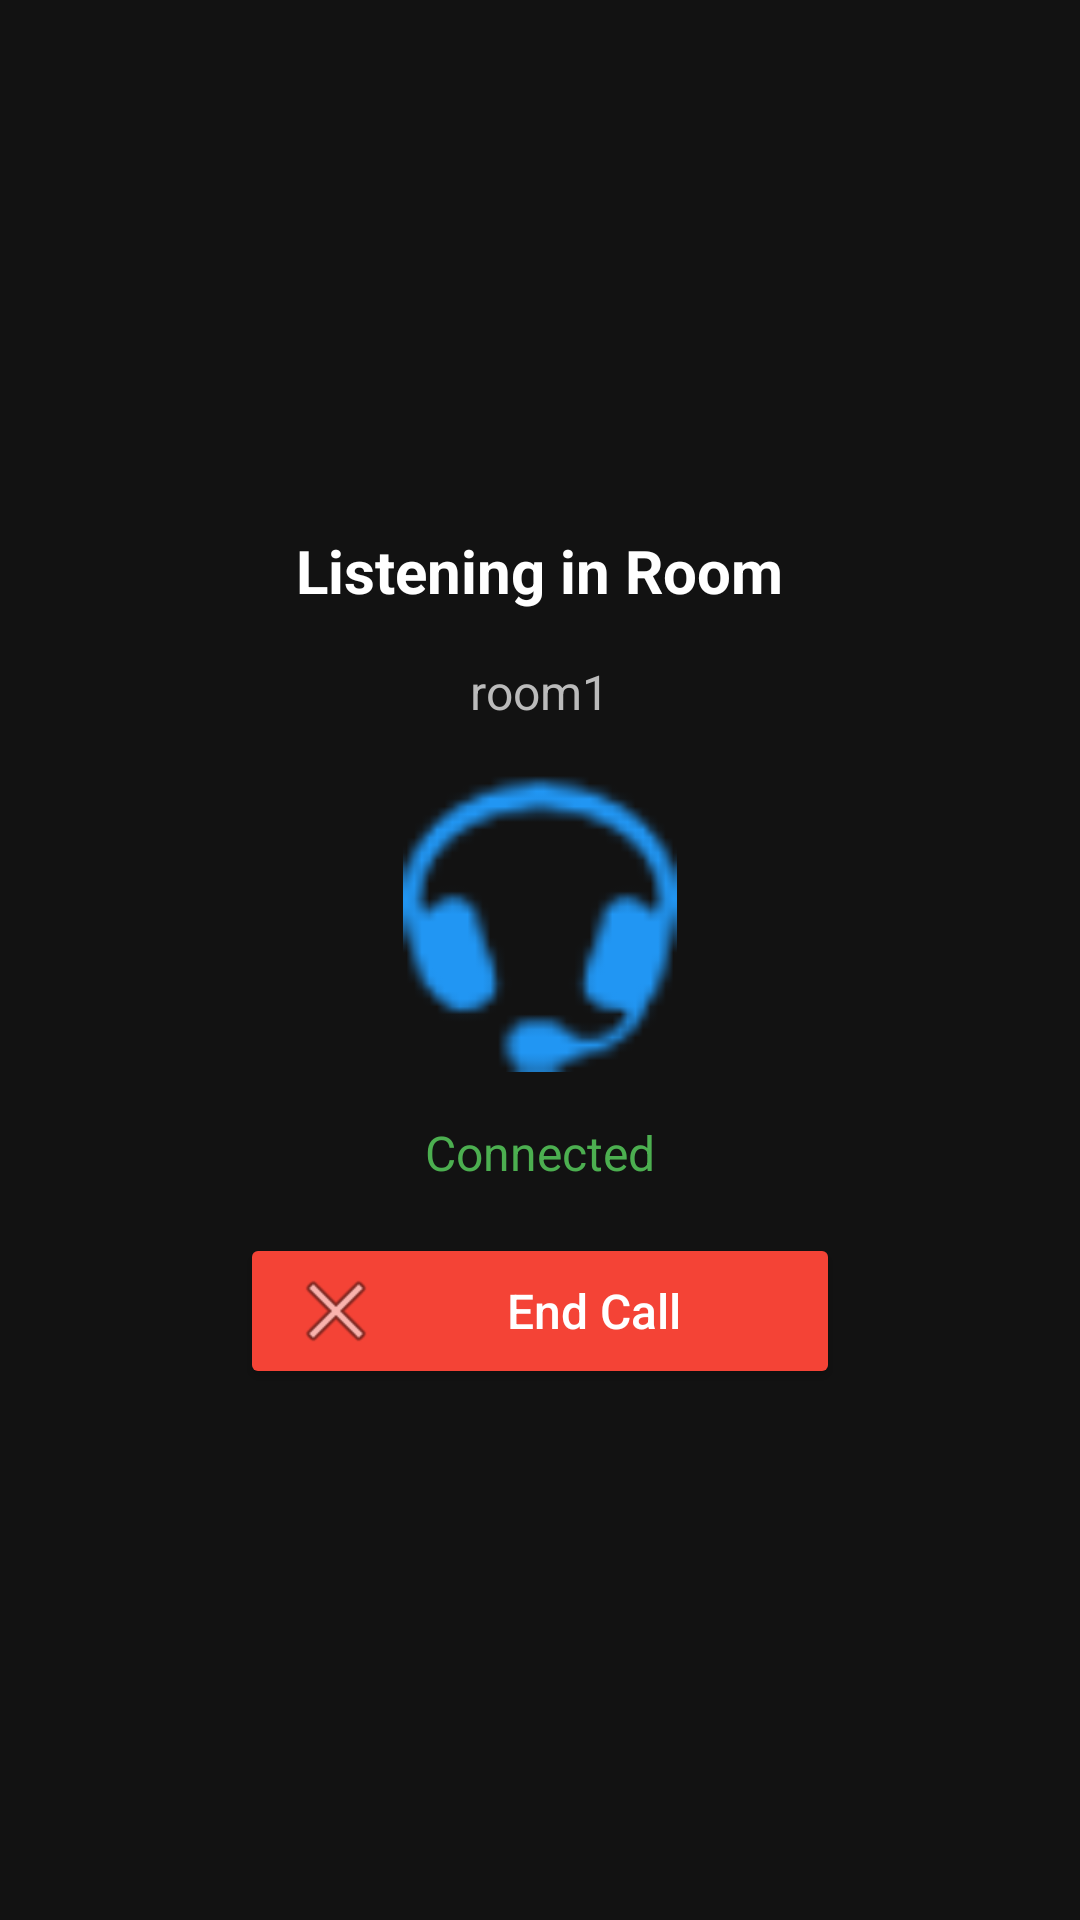

Icon bounding boxes for this 1080 × 1920 phone screenshot, format (x1, y1, x2, y2):
headset: (403, 777, 677, 1072)
